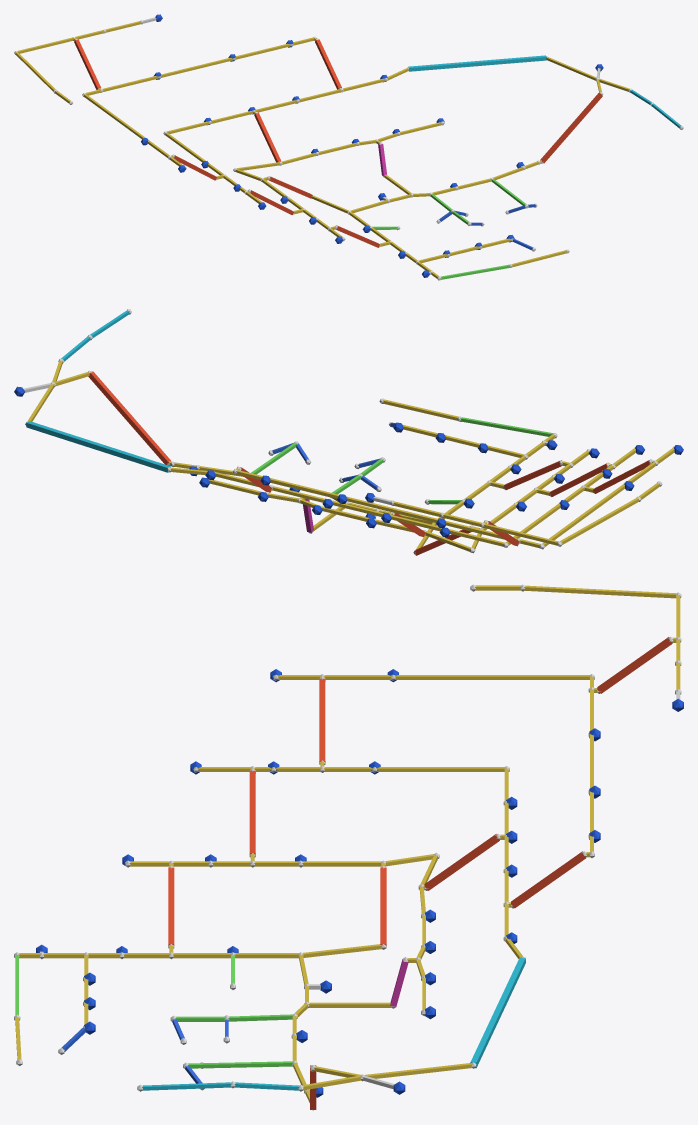
File: village_nav_overlay_v02.glb
3 views of the same model, one above another, from view 1: azimuth 30°, elevation 25°; view 2: azimuth 150°, elevation 25°; view 3: azimuth 270°, elevation 25° (orthographic). The views are drawn at different scales.
Parts seen in each view (by area): view 1: nav_edges_walk, nav_edges_stair, nav_doors, nav_nodes, nav_edges_bridge, nav_edges_ramp; view 2: nav_edges_walk, nav_edges_stair, nav_doors, nav_edges_ramp, nav_edges_bridge, nav_nodes, nav_edges_board, nav_edges_archwalk; view 3: nav_edges_walk, nav_edges_stair, nav_doors, nav_nodes, nav_edges_ramp, nav_edges_bridge, nav_edges_archwalk.
Part boxes in pixels (bbox=[...]): nav_edges_walk: bbox=[15, 21, 629, 278]; nav_edges_stair: bbox=[74, 39, 602, 247]; nav_doors: bbox=[141, 14, 603, 277]; nav_nodes: bbox=[14, 20, 683, 280]; nav_edges_bridge: bbox=[408, 55, 546, 71]; nav_edges_ramp: bbox=[372, 178, 526, 279]; nav_edges_walk: bbox=[27, 360, 674, 551]; nav_edges_stair: bbox=[88, 371, 650, 555]; nav_doors: bbox=[14, 386, 683, 537]; nav_edges_ramp: bbox=[251, 417, 552, 504]; nav_edges_bridge: bbox=[26, 421, 170, 472]; nav_nodes: bbox=[25, 309, 674, 555]; nav_edges_board: bbox=[272, 423, 395, 490]; nav_edges_archwalk: bbox=[61, 310, 129, 361]; nav_edges_walk: bbox=[15, 585, 680, 1102]; nav_edges_stair: bbox=[168, 637, 672, 1109]; nav_doors: bbox=[36, 669, 683, 1097]; nav_nodes: bbox=[14, 584, 681, 1110]; nav_edges_ramp: bbox=[15, 955, 292, 1068]; nav_edges_bridge: bbox=[470, 957, 525, 1068]; nav_edges_archwalk: bbox=[142, 1082, 299, 1090].
Size of the model in its own units: 75.22 by 19.32 by 54.32.
